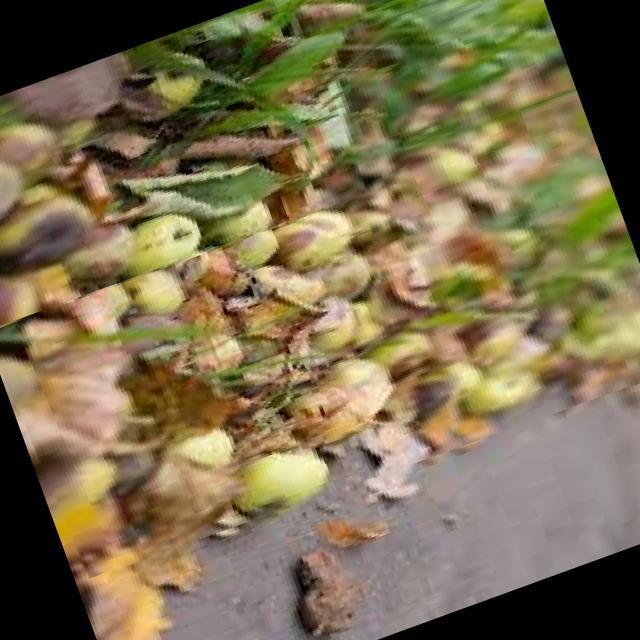Organic: (0, 114, 640, 588), (0, 0, 366, 332)
